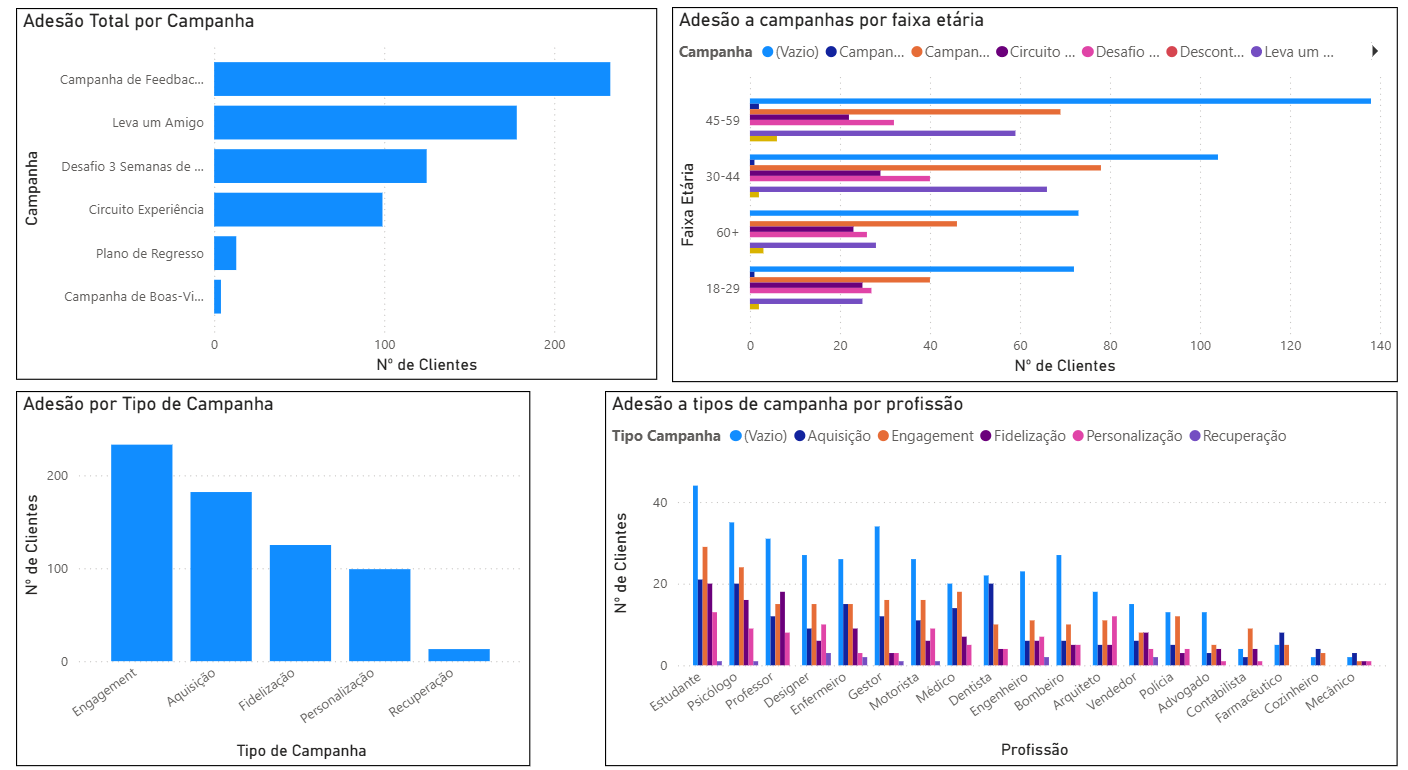

Layout of this report page (visuals, bound fields, positions):
{"tool":"powerbi","page":{"name":"Campanhas e Marketing","canvas":[1280,720],"ordinal":2},"visuals":[{"type":"barChart","title":"Adesão Total por Campanha","fields":{"Category":["easyfit_dw dim_campanha.campanha_nome"],"Y":["CountNonNull(easyfit_dw tf_cliente.fact_id)"]},"box":[18.8,26,575.8,334],"z":0},{"type":"columnChart","title":"Adesão por Tipo de Campanha","fields":{"Category":["easyfit_dw dim_campanha.campanha_tipo"],"Y":["CountNonNull(easyfit_dw tf_cliente.fact_id)"]},"box":[18.8,369.9,462.1,336.7],"z":1000},{"type":"clusteredBarChart","title":"Adesão a campanhas por faixa etária","fields":{"Category":["easyfit_dw dim_cliente.cliente_faixa_etaria"],"Series":["easyfit_dw dim_campanha.campanha_nome"],"Y":["CountNonNull(easyfit_dw tf_cliente.fact_id)"]},"box":[608.1,25.1,651.9,336.7],"z":2000},{"type":"clusteredColumnChart","title":"Adesão a tipos de campanha por profissão","fields":{"Y":["CountNonNull(easyfit_dw tf_cliente.fact_id)"],"Series":["easyfit_dw dim_campanha.campanha_tipo"],"Category":["easyfit_dw dim_cliente.cliente_profissao"]},"box":[548.1,369.9,711.9,336.7],"z":3000}]}

Visuals, with their boxes in screenshot pixels (x1, y1, x2, y2), scaled from the page's 1280x720 canvas onto the 1408x770 screenshot:
"Adesão Total por Campanha" barChart: BBox(21, 28, 654, 385)
"Adesão por Tipo de Campanha" columnChart: BBox(21, 396, 529, 756)
"Adesão a campanhas por faixa etária" clusteredBarChart: BBox(669, 27, 1386, 387)
"Adesão a tipos de campanha por profissão" clusteredColumnChart: BBox(603, 396, 1386, 756)
